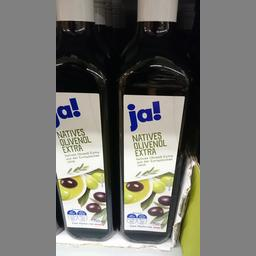oil: (110, 0, 188, 242), (55, 0, 113, 240)
